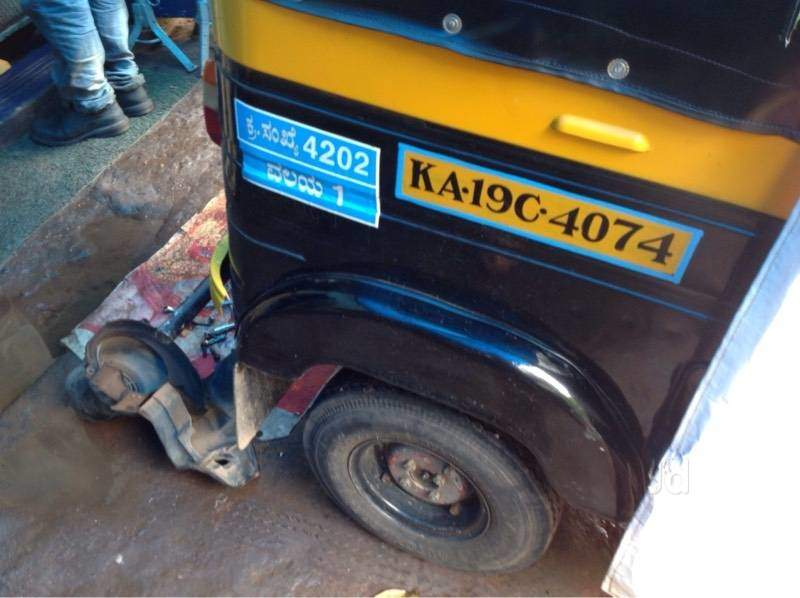numberplate: (393, 139, 705, 287)
